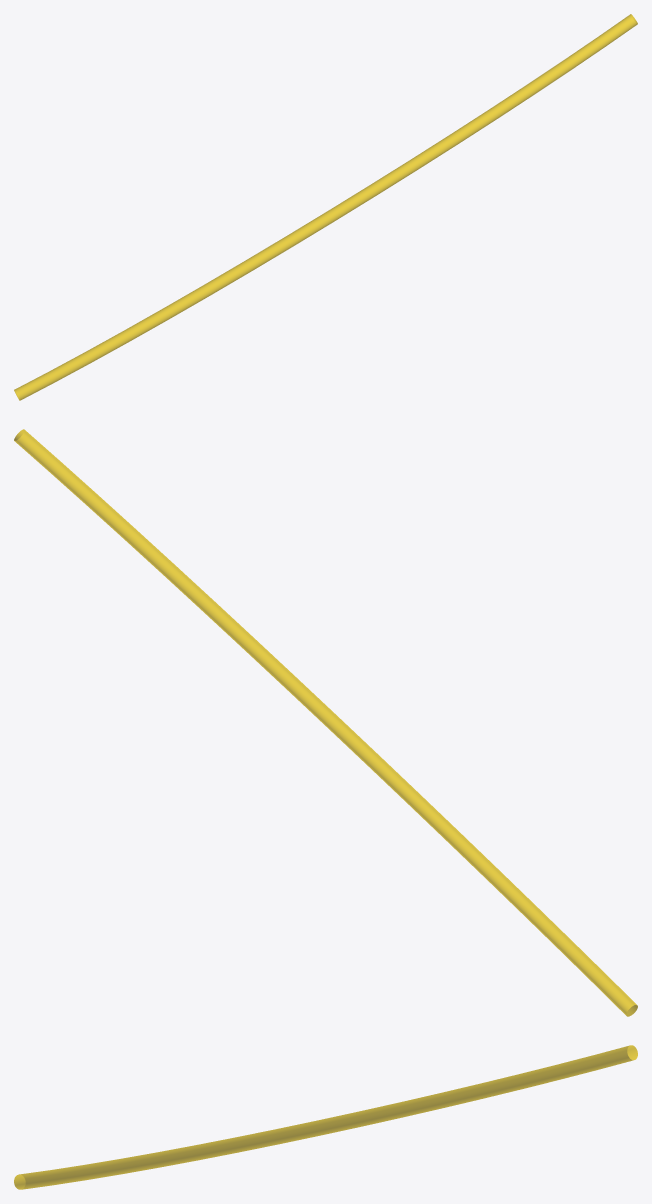
Rendered from Event_17758602_track_5.fbx.
3 renders of one model, top to bottom at view 1: azimuth 30°, elevation 25°; view 2: azimuth 150°, elevation 25°; view 3: azimuth 330°, elevation 25°, orthographic. The views are drawn at different scales.
Visible parts, largest first — view 1: Model; view 2: Model; view 3: Model.
Part boxes in pixels (x1,y1,x2,y2): Model: [14, 14, 637, 400]; Model: [14, 429, 637, 1016]; Model: [14, 1045, 637, 1189].
Size of the model in its own units: 2.07 by 1.04 by 0.4293.
